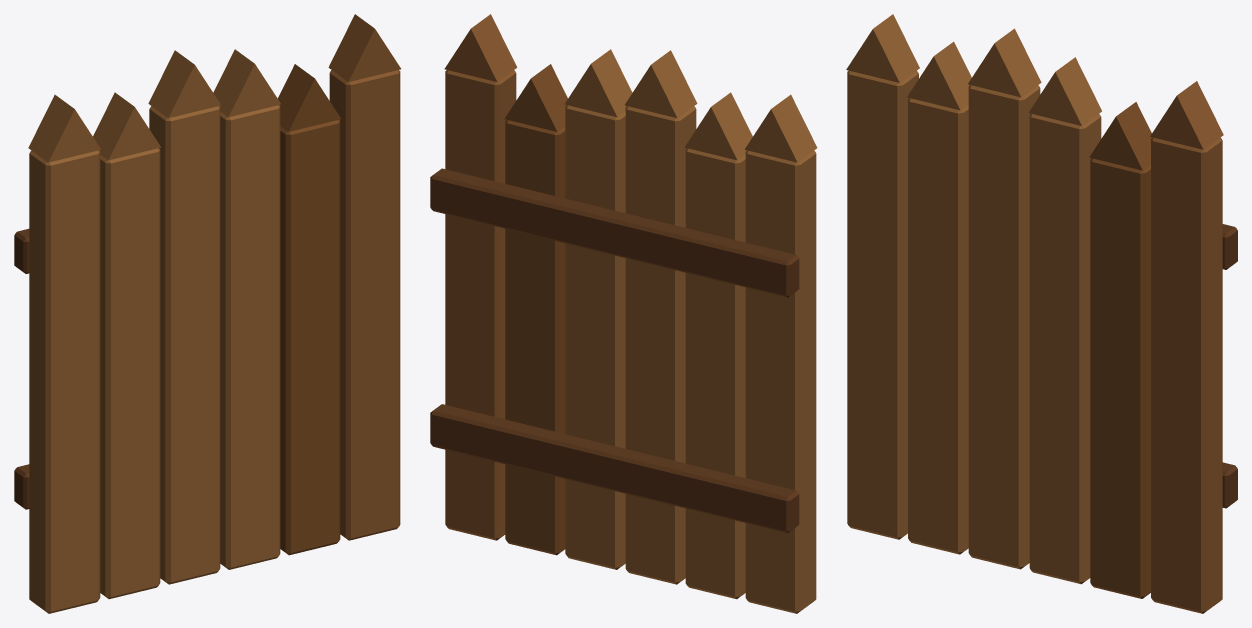
File: wall_wood.glb
3 renders of one model, left to right at view 1: azimuth 30°, elevation 25°; view 2: azimuth 150°, elevation 25°; view 3: azimuth 330°, elevation 25°, orthographic.
Parts seen in each view (by area): view 1: WallWood; view 2: WallWood; view 3: WallWood.
Part boxes in pixels (x1,y1,x2,y2): WallWood: (14,14,400,613); WallWood: (430,14,817,613); WallWood: (846,14,1237,613).
Bounding box in the file's own units: 1.04 × 1.42 × 0.16.
